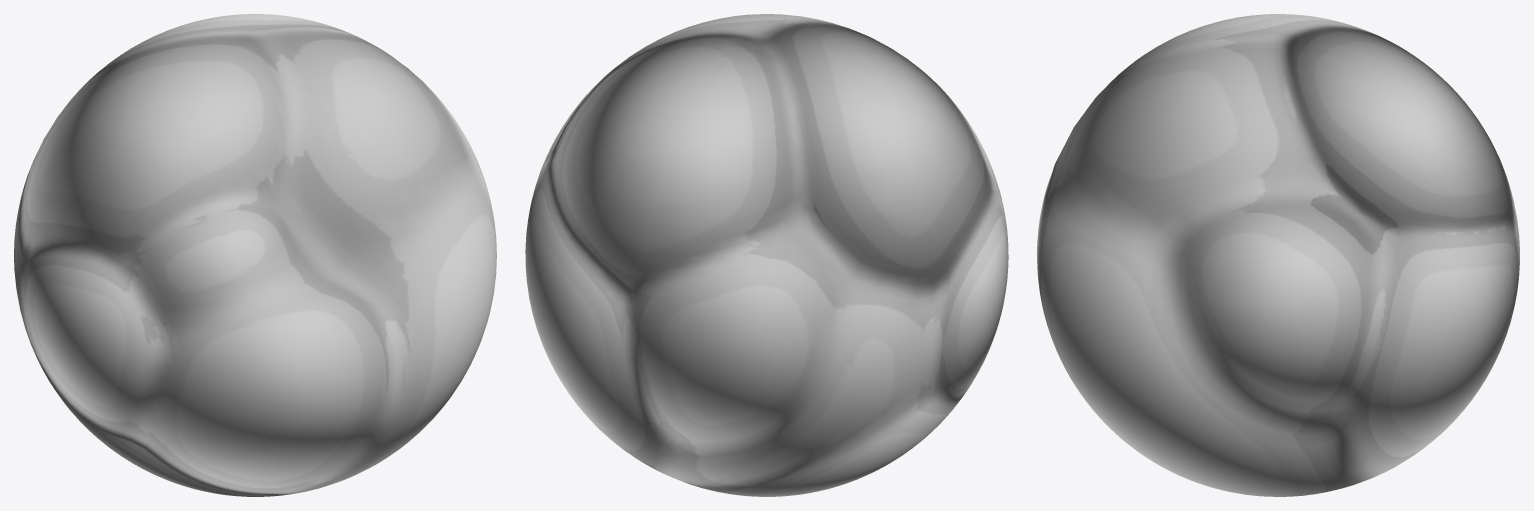
Rendered from blast.glb.
3 views of the same model, side by side, from view 1: azimuth 30°, elevation 25°; view 2: azimuth 150°, elevation 25°; view 3: azimuth 270°, elevation 25° (orthographic).
Visible parts, largest first — view 1: Blast; view 2: Blast; view 3: Blast.
Boxes of the visible parts, box(x1,y1,x2,y2) form: Blast: box(14, 14, 496, 496); Blast: box(525, 14, 1008, 496); Blast: box(1037, 14, 1519, 496).
Bounding box in the file's own units: 0.1269 × 0.1269 × 0.1269.
1 material, 1 textured.
